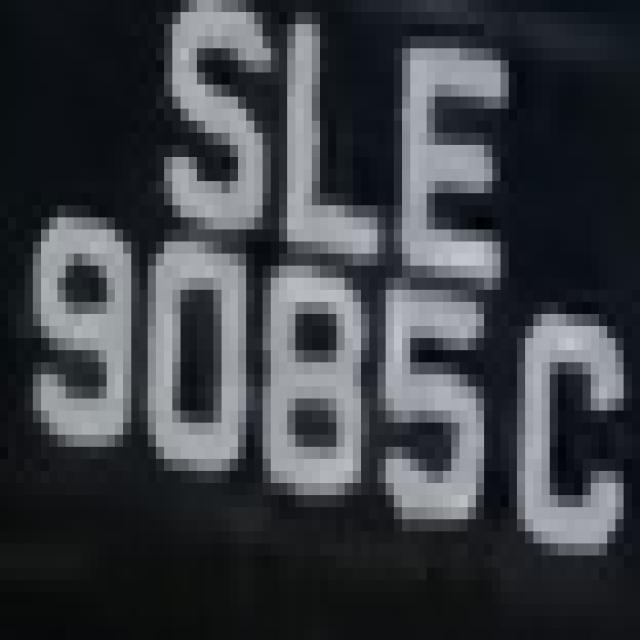0: (156, 217, 271, 495)
5: (369, 217, 484, 544)
8: (254, 206, 370, 532)
9: (17, 205, 132, 471)
C: (507, 278, 640, 589), (6, 5, 8, 11)
E: (386, 24, 542, 302)
L: (254, 24, 386, 290)
S: (131, 0, 271, 254)
